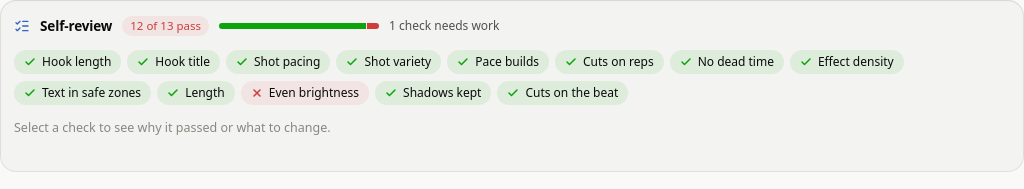
it: the checks card shows a chip per check with its reason on demand, and the failing one is marked
The width and height of the screenshot is (1024, 189).
Expected: the text "12 of 13 pass" is shown, top-left (122, 16), bottom-right (209, 36)
Expected: the element with test id "check-detail" shows "Select a check", top-left (14, 119), bottom-right (331, 136)
Step 1. Click the button with aria-label "Even brightness: Fail" → (305, 93), box top-left (241, 81), bottom-right (369, 105)
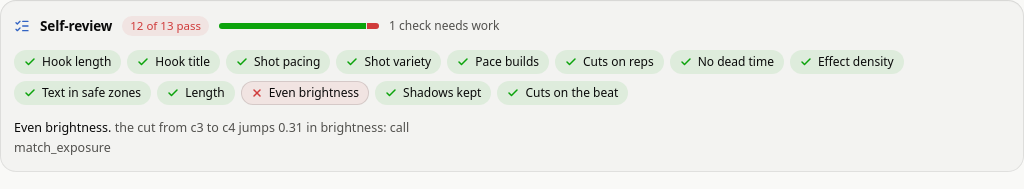
Now the button with aria-label "Even brightness: Fail" is expanded
Now the element with test id "check-detail" shows "Even brightness. the cut from c3 to c4 jumps 0.31 in brightness: call match_exposure", box top-left (14, 118), bottom-right (479, 158)
Note: A second click closes it.
Step 2. Click the button with aria-label "Even brightness: Fail" → (305, 93), box top-left (241, 81), bottom-right (369, 105)
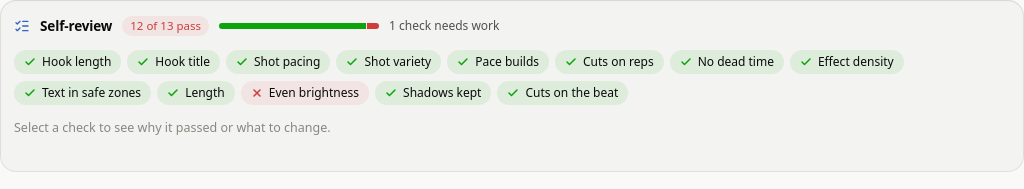
Now the element with test id "check-detail" shows "Select a check", box top-left (14, 119), bottom-right (331, 136)
